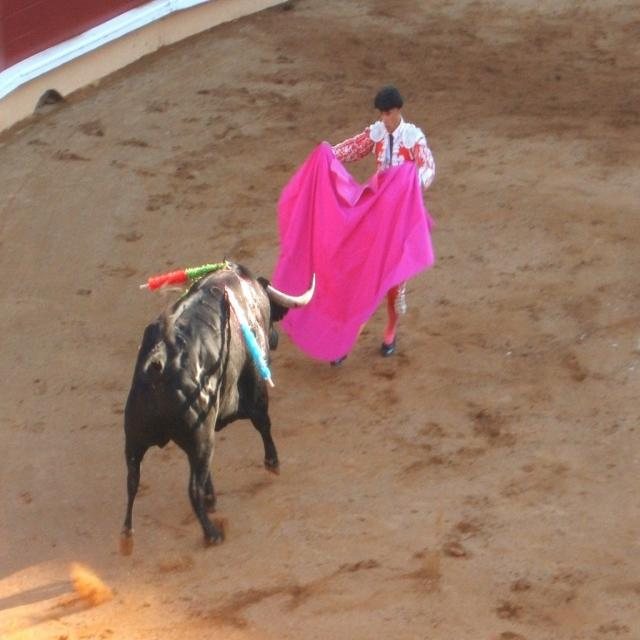Bull: (118, 256, 316, 556)
